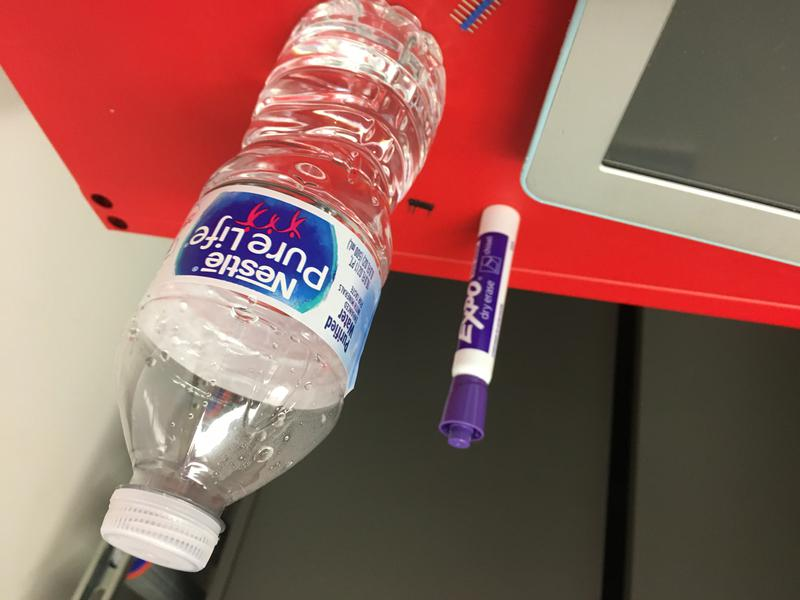bottle: (100, 1, 447, 574)
